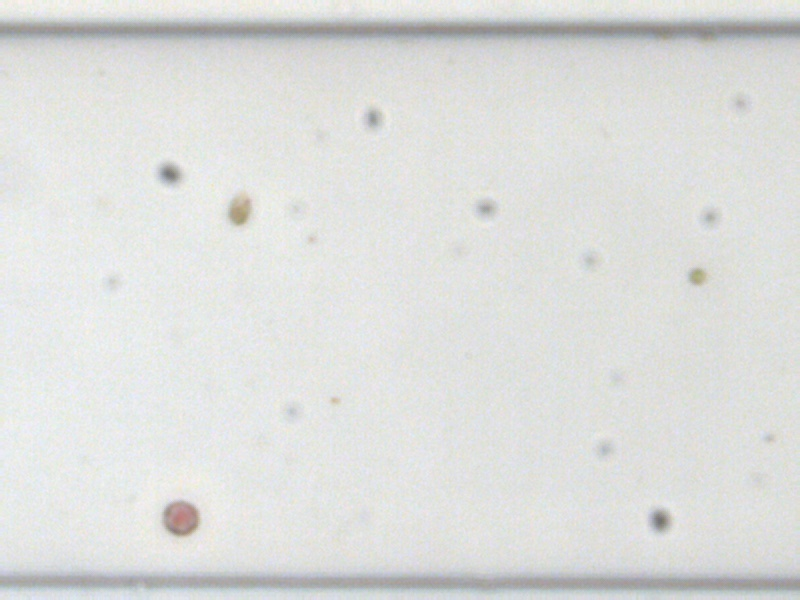Chlorella: (687, 267, 706, 283)
Dunaliella salina: (225, 188, 251, 226)
Porphyridium: (159, 497, 200, 538)
